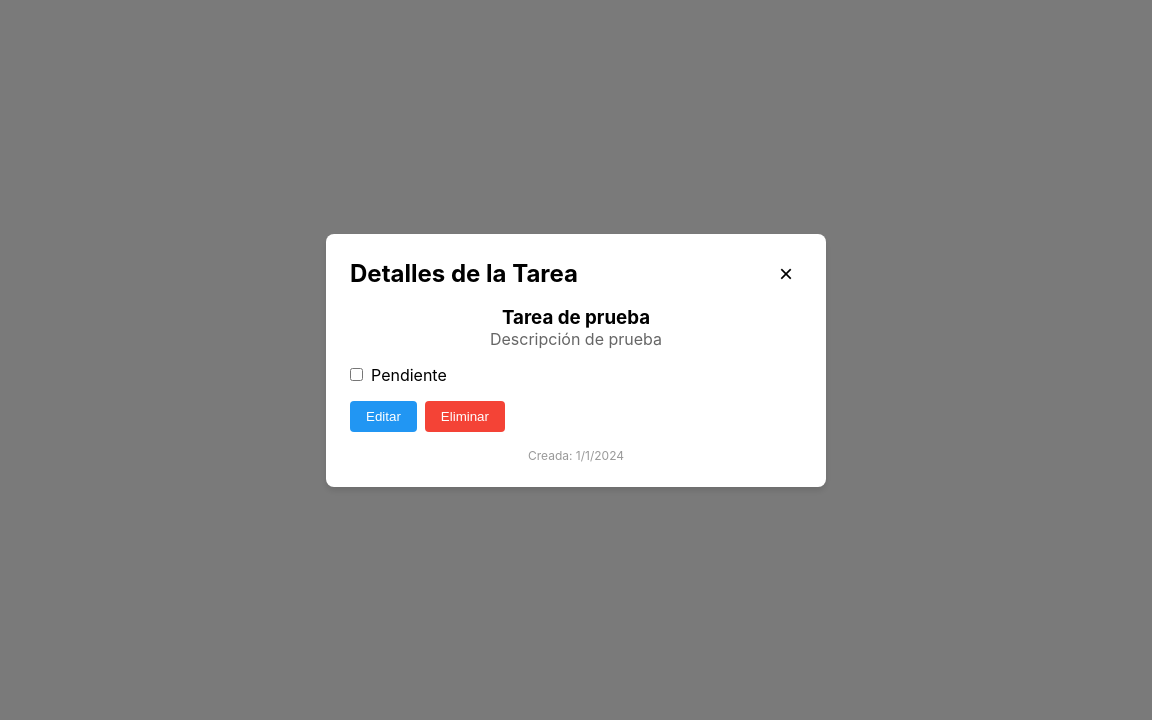
Scenario: TaskDetails › debería mostrar el formulario de edición al hacer click en Editar
What coordinates should you click on to do the following:
click the button "Editar"
I would click on:
 (383, 416)
Its box is [350, 400, 417, 432].
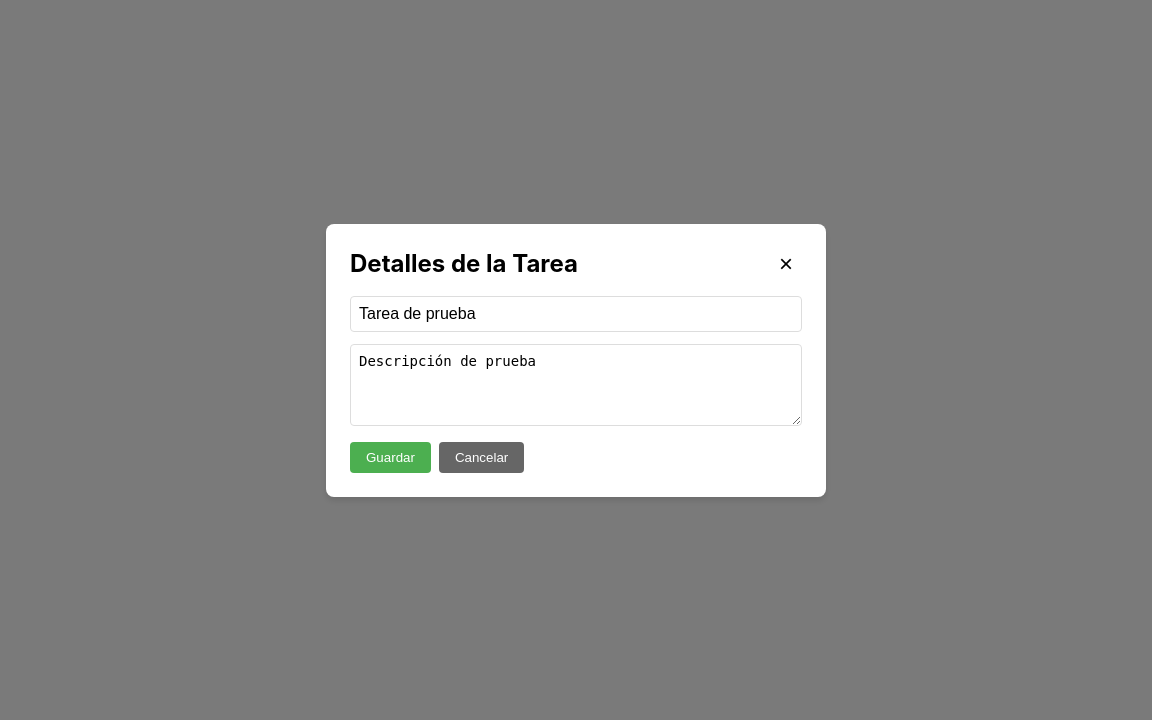
Expected: the field titled "title" is shown, [350, 296, 802, 332]
Expected: the text box titled "description" is shown, [350, 344, 802, 426]
Expected: the button "Guardar" is shown, [350, 442, 431, 472]
